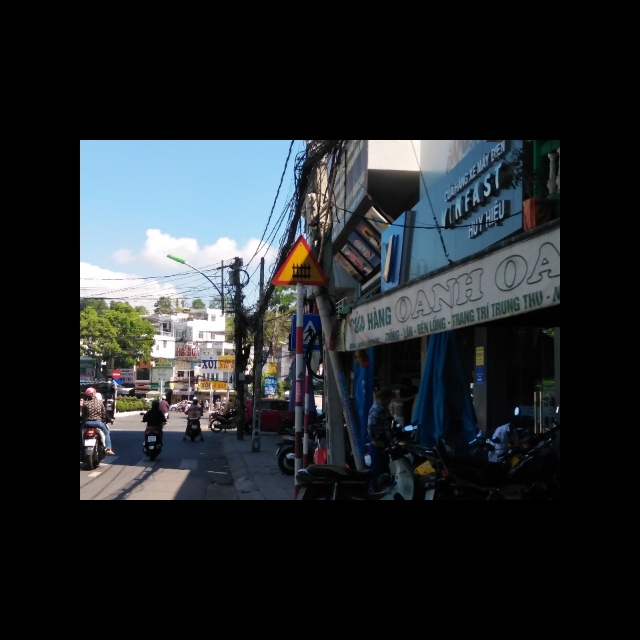Giao nhau với đường sắt có rào chắn: (270, 235, 332, 287)
